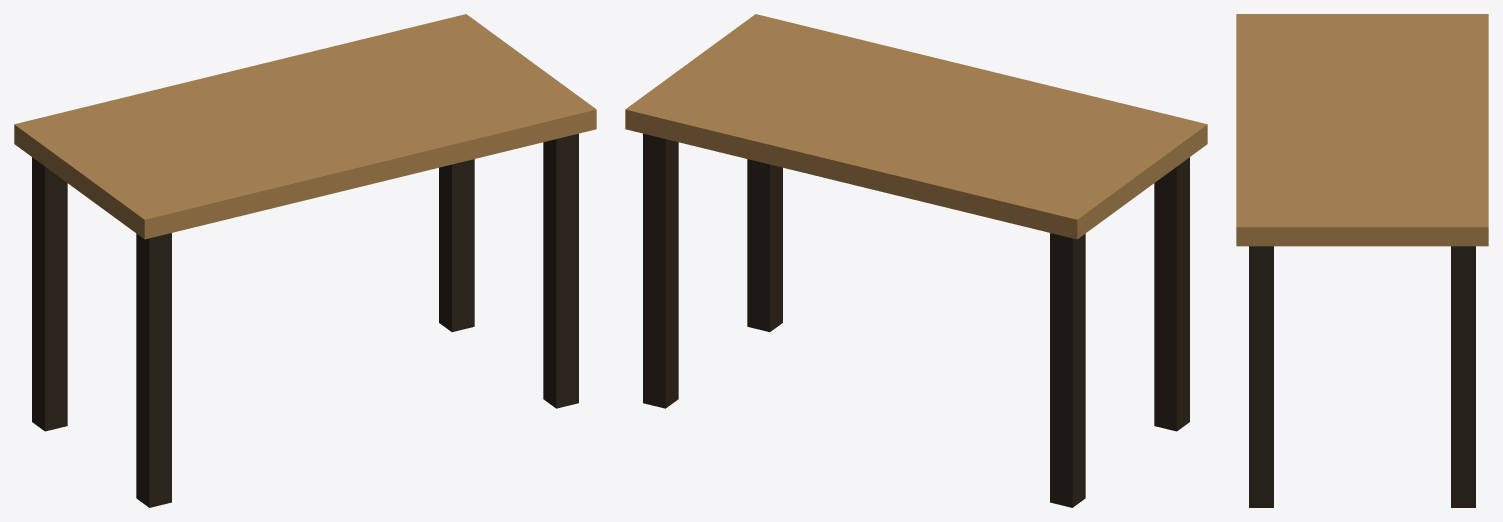
File: prop_kids_desk.glb
3 views of the same model, side by side, from view 1: azimuth 30°, elevation 25°; view 2: azimuth 150°, elevation 25°; view 3: azimuth 270°, elevation 25° (orthographic). The views are drawn at different scales.
Visible parts, largest first — view 1: body; view 2: body; view 3: body.
Boxes of the visible parts, bbox=[...] form: body: bbox=[14, 14, 596, 507]; body: bbox=[625, 14, 1207, 507]; body: bbox=[1236, 14, 1488, 507].
Size of the model in its own units: 1.2 by 0.75 by 0.6.
